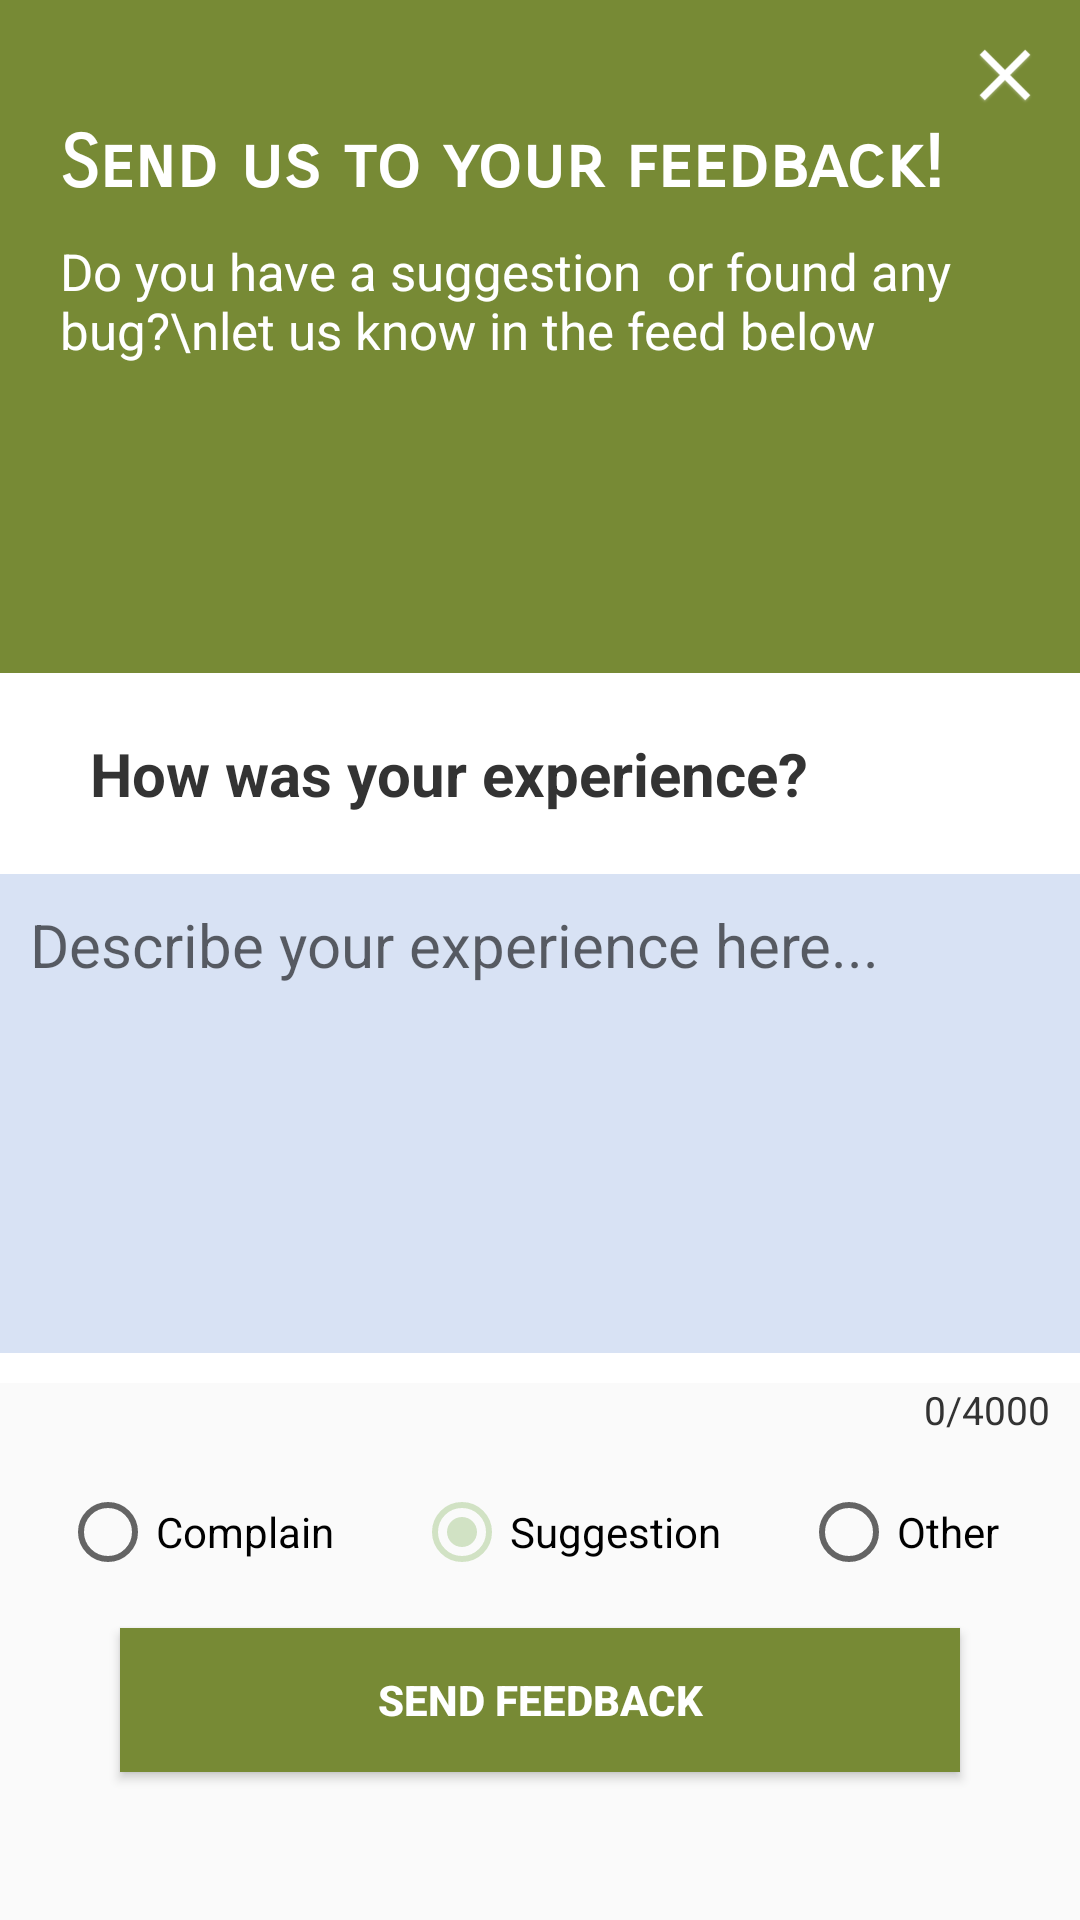

Where icons sit on this 1080x1920 app screen, as (x1, y1, x2, y2):
cross: (979, 49, 1031, 101)
